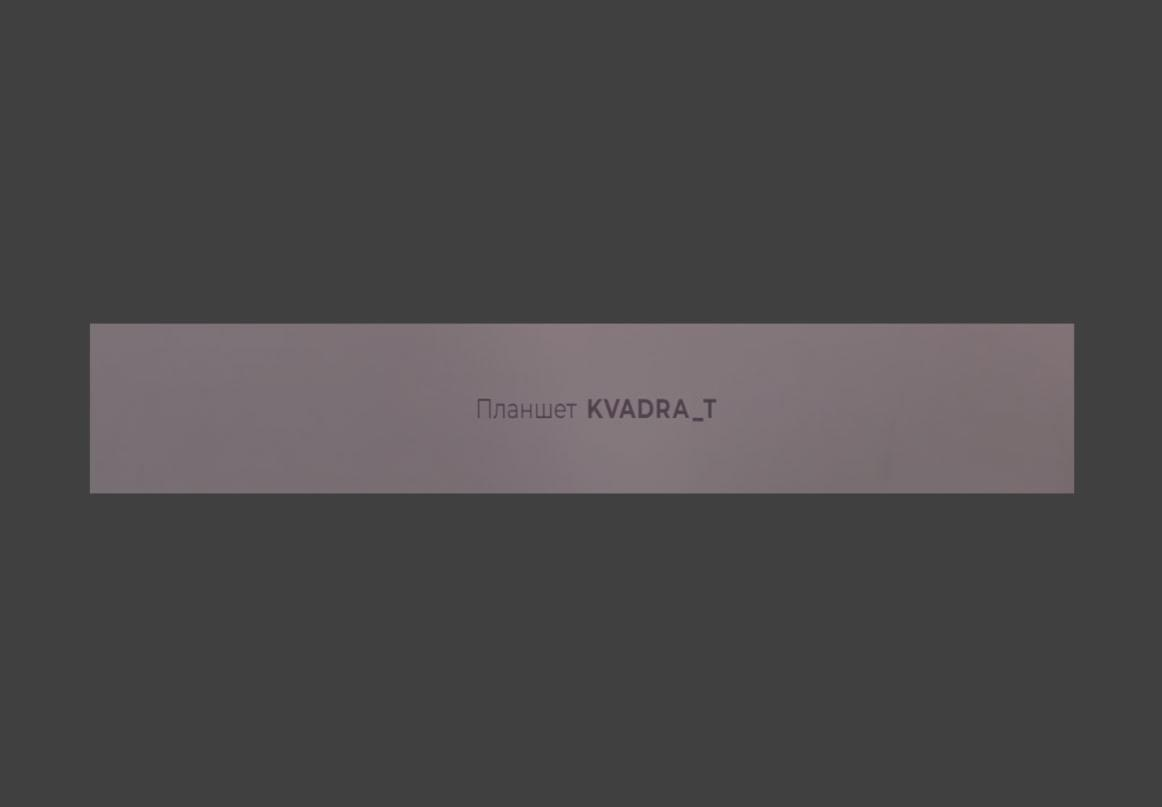tablet_left: (85, 322, 1078, 496)
